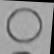no answer: (3, 6, 45, 46)
